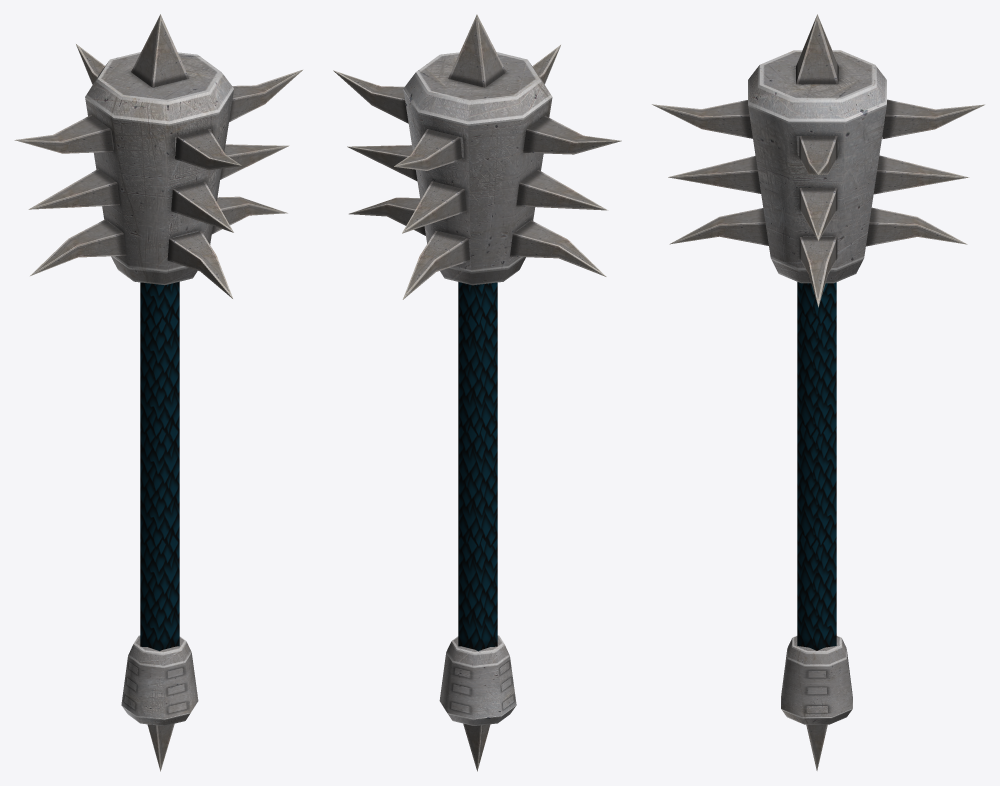
Rendered from mace01_regular.FBX.
3 views of the same model, side by side, from view 1: azimuth 30°, elevation 25°; view 2: azimuth 150°, elevation 25°; view 3: azimuth 270°, elevation 25° (orthographic).
Visible parts, largest first — view 1: mace01; view 2: mace01; view 3: mace01.
Part boxes in pixels (x1,y1,x2,y2): mace01: (14,14,302,771); mace01: (333,14,621,771); mace01: (652,14,984,770).
Size of the model in its own units: 0.3966 by 0.9905 by 0.3966.
